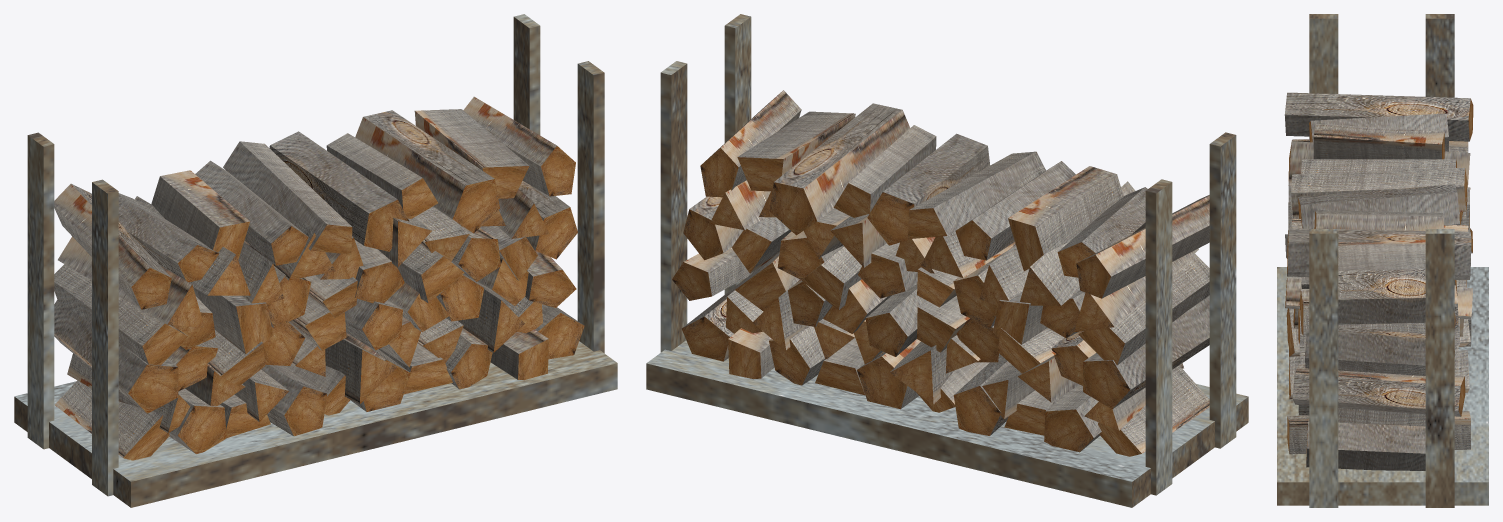
File: LogHolder.fbx
3 renders of one model, left to right at view 1: azimuth 30°, elevation 25°; view 2: azimuth 150°, elevation 25°; view 3: azimuth 270°, elevation 25°, orthographic. The views are drawn at different scales.
Parts seen in each view (by area): view 1: Logs, LogHolder; view 2: Logs, LogHolder; view 3: Logs, LogHolder.
Part boxes in pixels (x1,y1,x2,y2): Logs: [54, 96, 584, 460]; LogHolder: [14, 14, 617, 507]; Logs: [672, 90, 1209, 456]; LogHolder: [646, 14, 1248, 507]; Logs: [1284, 92, 1473, 470]; LogHolder: [1277, 14, 1488, 507].
Bounding box in the file's own units: 261 × 152 × 106.
